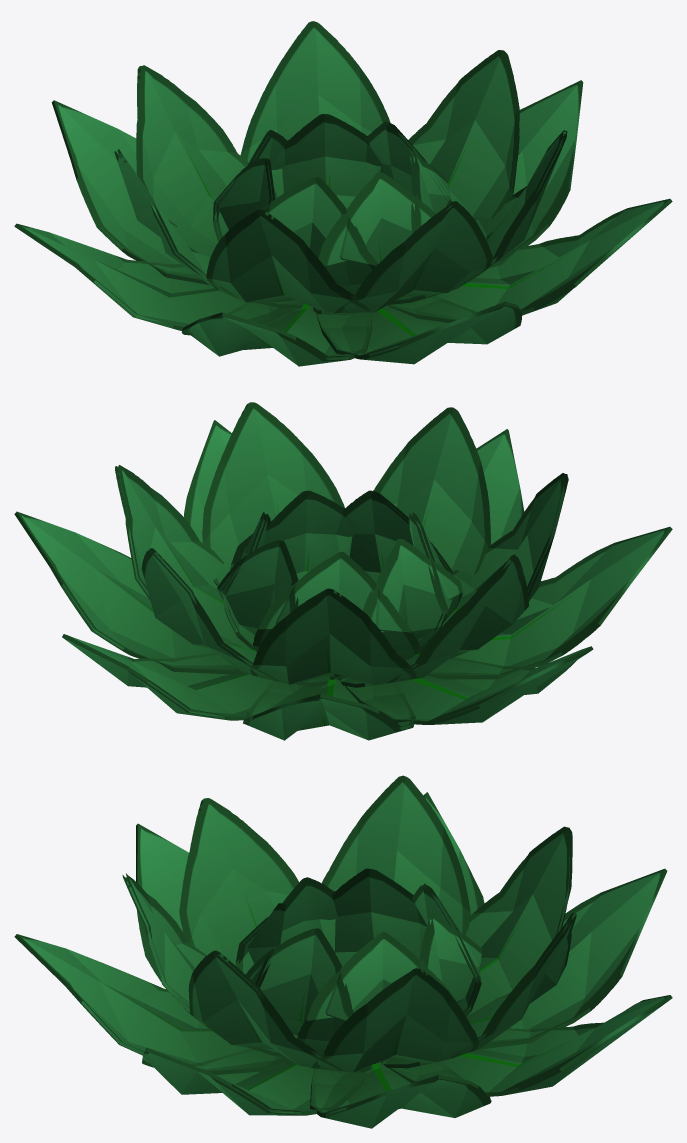
File: arbusto.fbx
3 views of the same model, one above another, from view 1: azimuth 30°, elevation 25°; view 2: azimuth 150°, elevation 25°; view 3: azimuth 270°, elevation 25° (orthographic).
Visible parts, largest first — view 1: Plane.001; view 2: Plane.001; view 3: Plane.001.
Boxes of the visible parts, x1,y1,x2,y2 form: Plane.001: (14, 21, 672, 366); Plane.001: (14, 402, 672, 740); Plane.001: (14, 775, 672, 1128).
Size of the model in its own units: 177 by 57.15 by 173.
